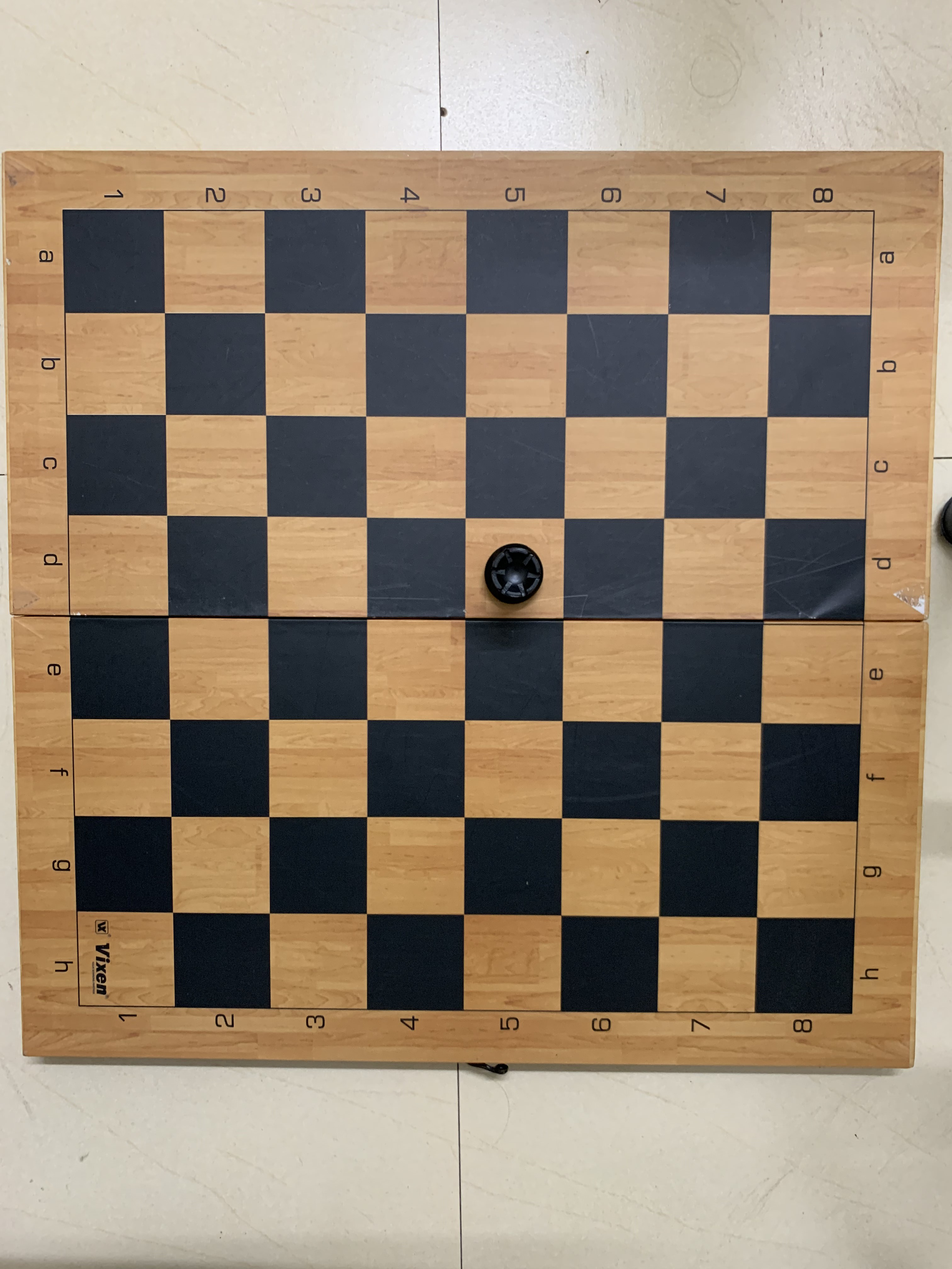black_rook: (463, 512, 569, 613)
